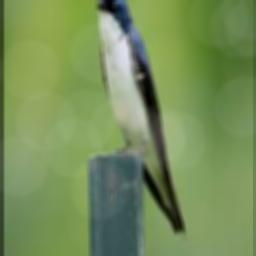Swallow: (93, 0, 185, 235)
